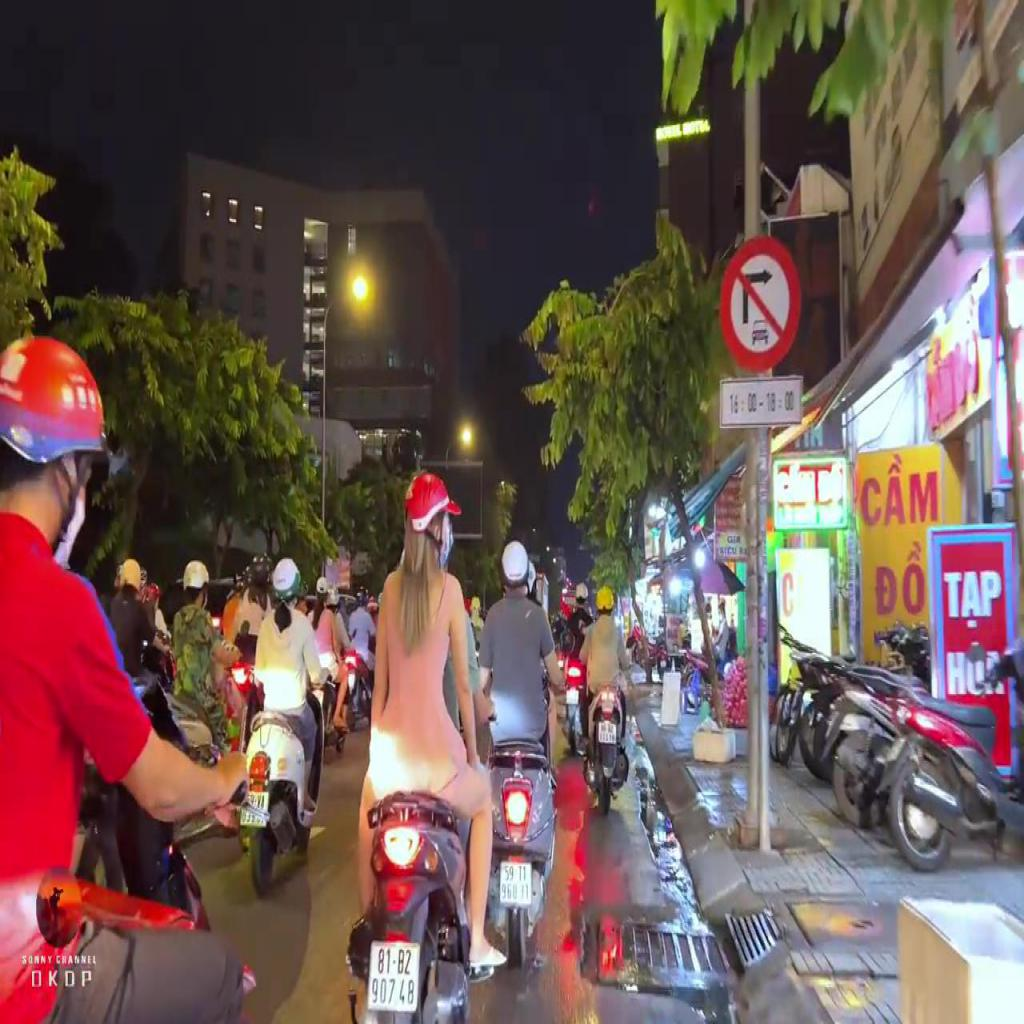cam_o_to_re_phai: (720, 236, 801, 377)
khac: (720, 377, 803, 428)
